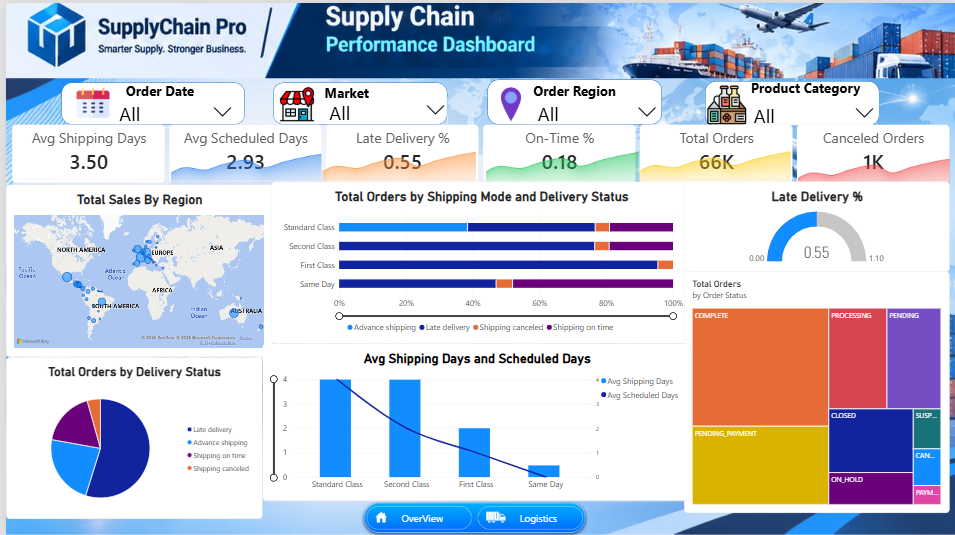

The page's visual inventory and layout, read from the dashboard file:
{"tool":"powerbi","page":{"name":"OverView ","canvas":[1920,1080],"ordinal":0},"visuals":[{"type":"image","box":[1446.4,10.7,473.2,123.2],"z":0},{"type":"image","box":[0,0,1920,151.9],"z":1000},{"type":"shape","box":[112.4,161,370.6,85.1],"z":2000},{"type":"slicer","title":"  Market","fields":{"Values":["DataCoSupplyChainDataset.order date (DateOrders)"]},"box":[218.7,188.4,249.1,115.4],"z":3000},{"type":"shape","box":[103.3,148.9,416.2,54.7],"z":4000},{"type":"image","box":[1193.3,376.7,352.4,75.9],"z":4000,"group":"g1"},{"type":"shape","box":[540.8,161,352.4,85.1],"z":5000},{"type":"slicer","title":"  Market","fields":{"Values":["DataCoSupplyChainDataset.Market"]},"box":[641,185.3,255.2,115.4],"z":6000},{"type":"shape","box":[486.1,148.9,407.1,63.8],"z":7000},{"type":"shape","box":[972.2,154.9,352.4,91.1],"z":8000},{"type":"shape","box":[1412.7,158,352.4,91.1],"z":9000},{"type":"slicer","title":"  Market","fields":{"Values":["DataCoSupplyChainDataset.Order Region"]},"box":[1063.3,188.4,261.3,115.4],"z":10000},{"type":"slicer","title":"  Market","fields":{"Values":["DataCoSupplyChainDataset.Product Category Id"]},"box":[1500.8,191.4,264.3,115.4],"z":11000},{"type":"shape","box":[996.5,148.9,303.8,57.7],"z":12000},{"type":"shape","box":[1467.3,142.8,297.7,57.7],"z":13000},{"type":"image","box":[142.8,148.9,66.8,106.3],"z":14000},{"type":"image","box":[540.8,167.1,97.2,75.9],"z":15000},{"type":"image","box":[914.4,164.1,209.6,82],"z":16000},{"type":"image","box":[1412.7,167.1,88.1,79],"z":17000},{"type":"cardVisual","fields":{"Data":["DataCoSupplyChainDataset.Total Sales","DataCoSupplyChainDataset.Total Orders","DataCoSupplyChainDataset.Total Profit","DataCoSupplyChainDataset.Total Customers","DataCoSupplyChainDataset.Avg Shipping Days","DataCoSupplyChainDataset.Category Selected"]},"box":[12.2,258.2,1895.7,118.5],"z":18000},{"type":"image","box":[1283.3,270,307.8,133.6],"z":19000},{"type":"image","box":[334.2,237,303.8,212.7],"z":20000},{"type":"image","box":[12.2,282.5,306.8,106.3],"z":21000},{"type":"image","box":[960,282.5,309.9,121.5],"z":22000},{"type":"image","box":[1601,249.1,306.8,185.3],"z":23000},{"type":"lineChart","fields":{"Category":["DataCoSupplyChainDataset.order date (DateOrders).Variation.Date Hierarchy.Month"],"Y":["DataCoSupplyChainDataset.Late Delivery %"]},"box":[0,366.7,876.7,333.3],"z":24000},{"type":"group","id":"g1","title":"Group 1","box":[1193.3,376.7,353.3,76.7],"z":25000},{"type":"columnChart","title":"Total Sales By Region","fields":{"Category":["DataCoSupplyChainDataset.Order Region"],"Y":["DataCoSupplyChainDataset.Total Sales"]},"box":[878,367.6,622.8,331.1],"z":26000},{"type":"clusteredColumnChart","fields":{"Category":["DataCoSupplyChainDataset.order date (DateOrders).Variation.Date Hierarchy.Month"],"Y":["DataCoSupplyChainDataset.Total Sales","DataCoSupplyChainDataset.Total Profit"]},"box":[0,697,590.9,318.2],"z":27000},{"type":"pieChart","fields":{"Category":["DataCoSupplyChainDataset.Delivery Status"],"Y":["DataCoSupplyChainDataset.Total Orders"]},"box":[1500.8,367.6,419.2,331.1],"z":28000},{"type":"waterfallChart","fields":{"Category":["DataCoSupplyChainDataset.Market"],"Y":["DataCoSupplyChainDataset.Total Sales"]},"box":[1324.2,700,597,315.2],"z":29000},{"type":"scatterChart","title":"Sales and Product Price Summary by City","fields":{"Category":["DataCoSupplyChainDataset.Order City"],"X":["Sum(DataCoSupplyChainDataset.Sales)"],"Y":["Sum(DataCoSupplyChainDataset.Product Price)"]},"box":[590.9,700,733.3,315.2],"z":30000},{"type":"image","box":[221.2,1015.2,1415.2,63.6],"z":31000},{"type":"image","box":[656.7,180,300,300],"z":32000},{"type":"actionButton","box":[690.9,1006.1,297,72.7],"z":32001},{"type":"actionButton","box":[987.9,1021.2,100,40],"z":32002}]}

Visuals, with their boxes in screenshot pixels (x1, y1, x2, y2), scaled from the page's 1920x1080 canvas onto the 955x535 screenshot:
image: Rect(719, 5, 954, 66)
image: Rect(0, 0, 954, 75)
shape: Rect(56, 80, 240, 122)
"  Market" slicer: Rect(109, 93, 233, 150)
shape: Rect(51, 74, 258, 101)
image: Rect(594, 187, 769, 224)
shape: Rect(269, 80, 444, 122)
"  Market" slicer: Rect(319, 92, 446, 149)
shape: Rect(242, 74, 444, 105)
shape: Rect(484, 77, 659, 122)
shape: Rect(703, 78, 878, 123)
"  Market" slicer: Rect(529, 93, 659, 150)
"  Market" slicer: Rect(746, 95, 878, 152)
shape: Rect(496, 74, 647, 102)
shape: Rect(730, 71, 878, 99)
image: Rect(71, 74, 104, 126)
image: Rect(269, 83, 317, 120)
image: Rect(455, 81, 559, 122)
image: Rect(703, 83, 746, 122)
cardVisual - DataCoSupplyChainDataset.Total Sales x DataCoSupplyChainDataset.Total Orders: Rect(6, 128, 949, 187)
image: Rect(638, 134, 791, 200)
image: Rect(166, 117, 317, 223)
image: Rect(6, 140, 159, 193)
image: Rect(478, 140, 632, 200)
image: Rect(796, 123, 949, 215)
lineChart - DataCoSupplyChainDataset.order date (DateOrders).Variation.Date Hierarchy.Month x DataCoSupplyChainDataset.Late Delivery %: Rect(0, 182, 436, 347)
"Group 1" group: Rect(594, 187, 769, 225)
"Total Sales By Region" columnChart: Rect(437, 182, 746, 346)
clusteredColumnChart - DataCoSupplyChainDataset.order date (DateOrders).Variation.Date Hierarchy.Month x DataCoSupplyChainDataset.Total Sales: Rect(0, 345, 294, 503)
pieChart - DataCoSupplyChainDataset.Delivery Status x DataCoSupplyChainDataset.Total Orders: Rect(746, 182, 954, 346)
waterfallChart - DataCoSupplyChainDataset.Market x DataCoSupplyChainDataset.Total Sales: Rect(659, 347, 954, 503)
"Sales and Product Price Summary by City" scatterChart: Rect(294, 347, 659, 503)
image: Rect(110, 503, 814, 534)
image: Rect(327, 89, 476, 238)
actionButton: Rect(344, 498, 491, 534)
actionButton: Rect(491, 506, 541, 526)
